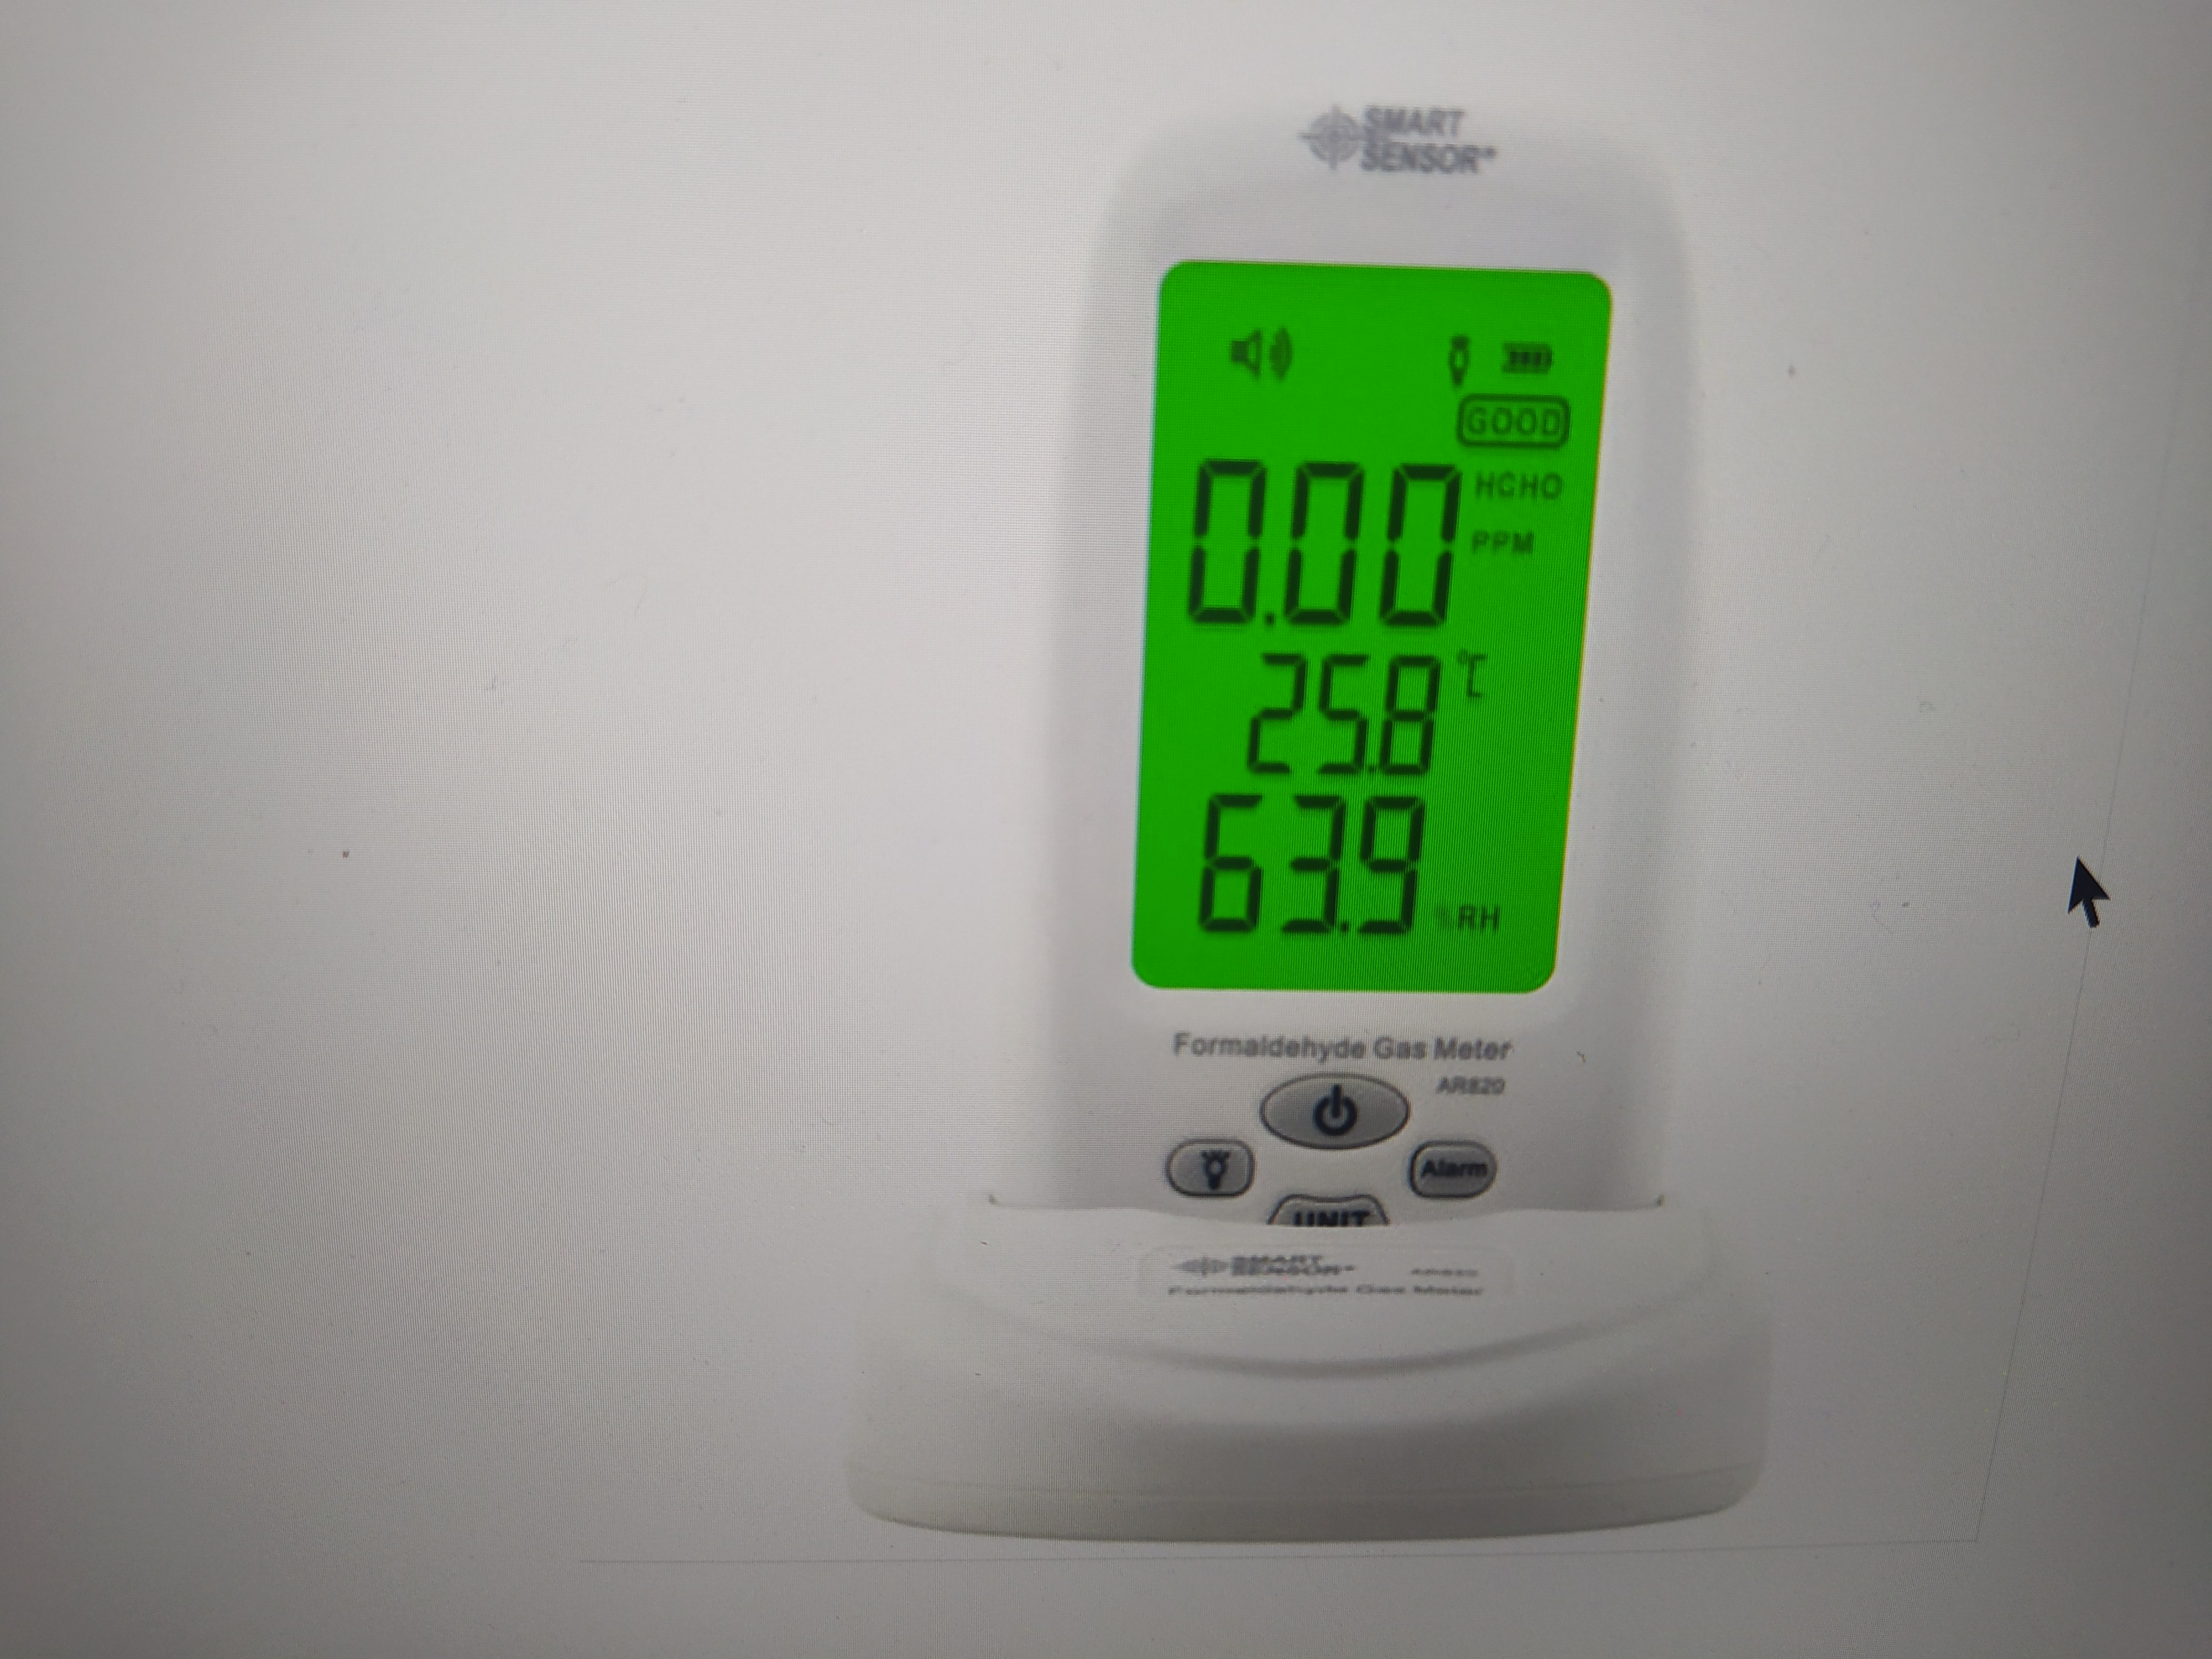.: (1264, 458, 1280, 626), (1360, 653, 1381, 777), (1339, 795, 1353, 931)
0: (1379, 458, 1465, 627), (1287, 460, 1366, 627), (1186, 460, 1263, 624)
2: (1249, 652, 1306, 775)
3: (1285, 793, 1346, 932)
5: (1315, 652, 1369, 775)
6: (1200, 793, 1264, 929)
8: (1381, 653, 1440, 777)
9: (1355, 793, 1428, 932)
